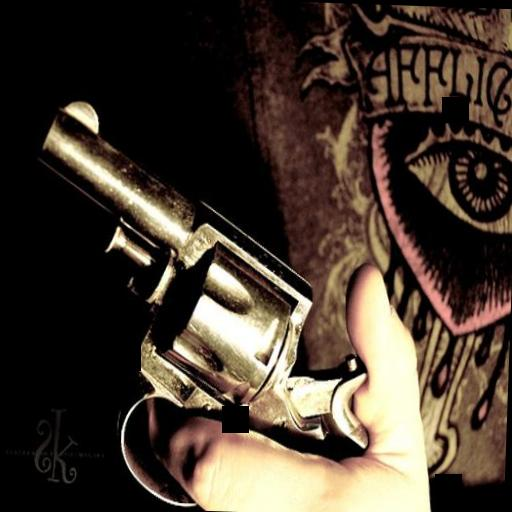Handgun: (20, 86, 378, 512)
